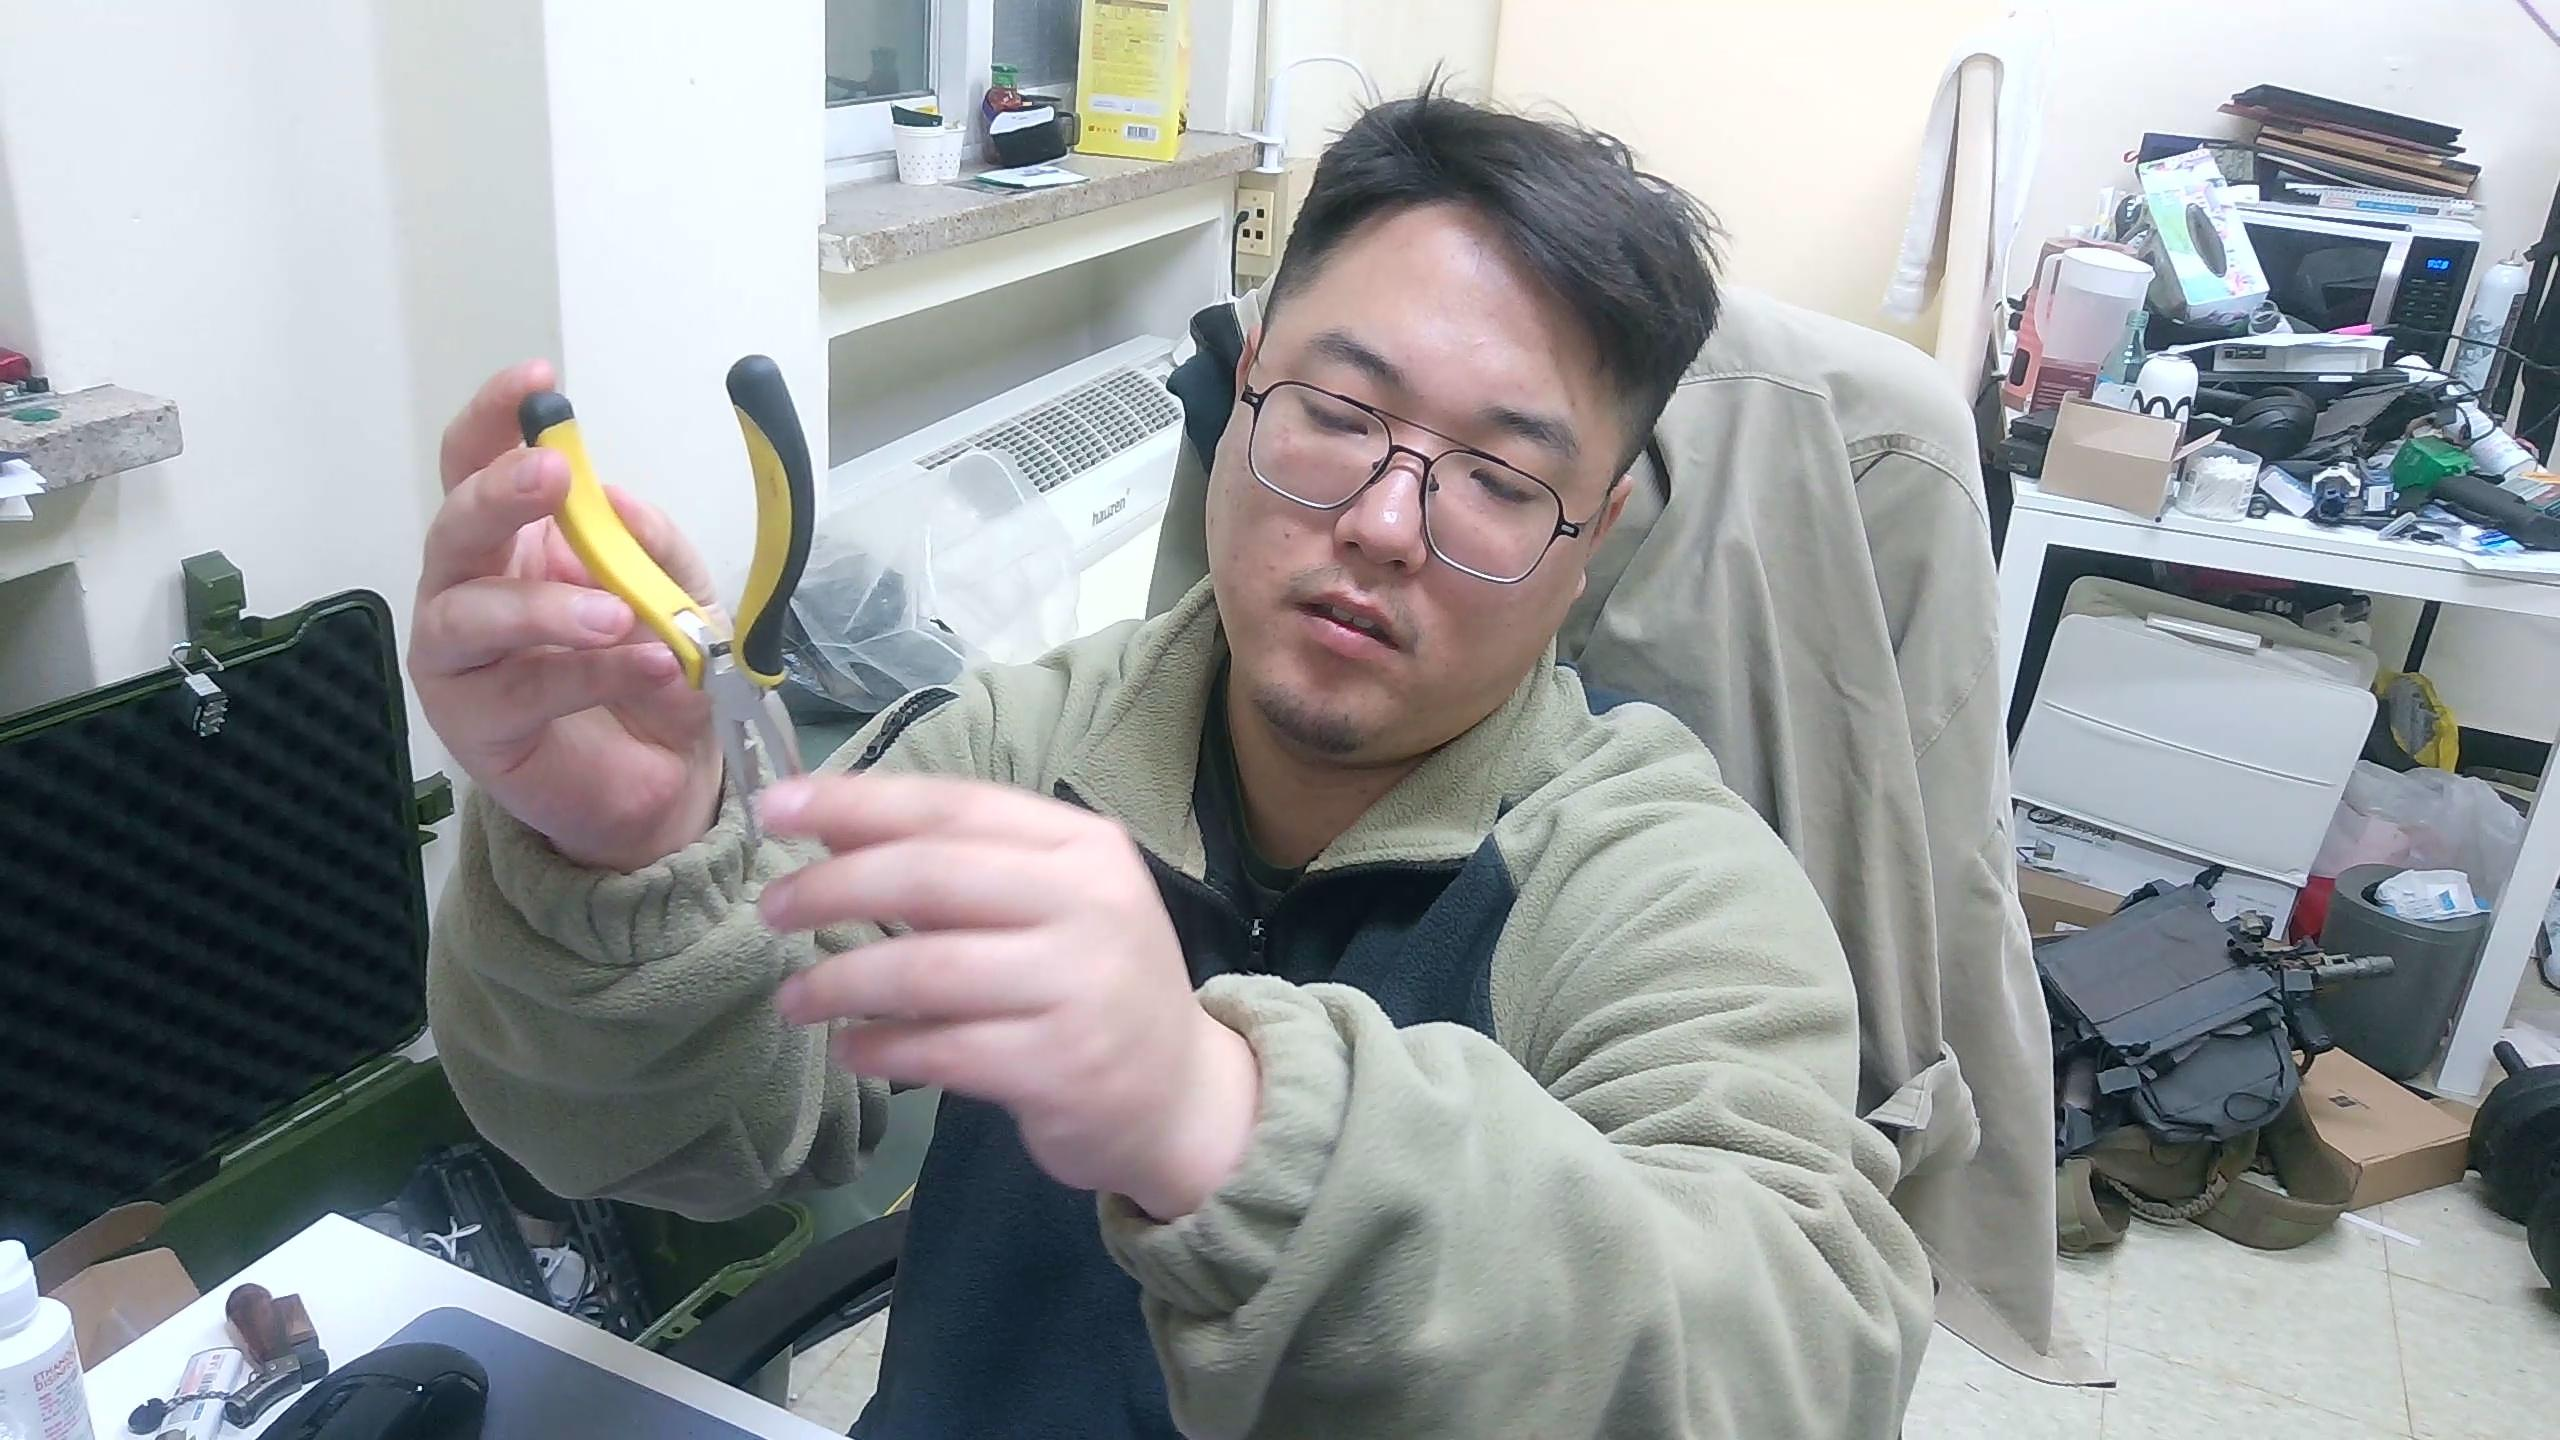earphone: (513, 350, 818, 809)
